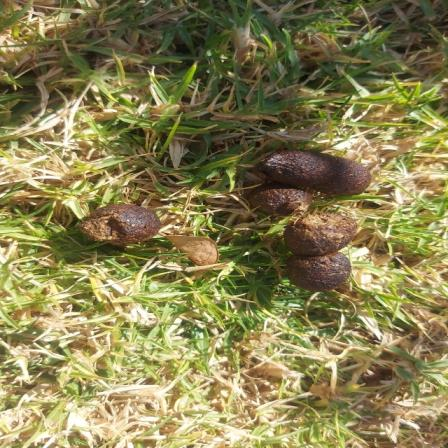dog-poop: (254, 139, 383, 297), (71, 192, 176, 252)
